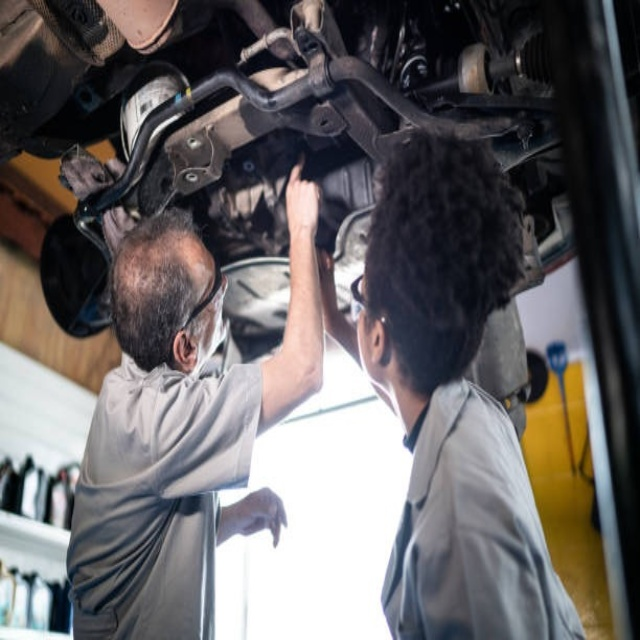Gafas: (174, 268, 223, 337), (349, 271, 391, 326)
Sin_guantes: (219, 487, 288, 548), (284, 152, 320, 243)
